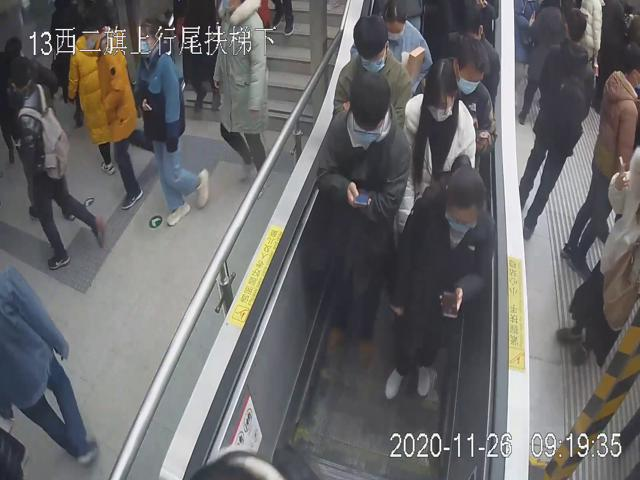person: (384, 150, 496, 403), (314, 67, 412, 344), (6, 58, 107, 269), (134, 15, 211, 227), (392, 58, 480, 234), (327, 13, 411, 133), (376, 0, 434, 94)
